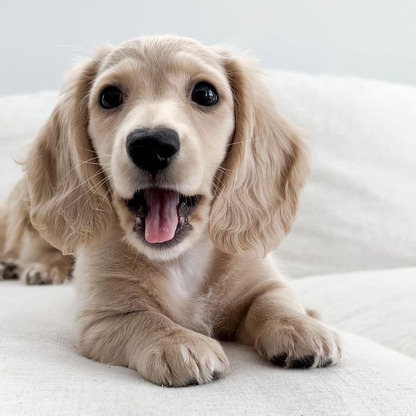dachshund: (35, 43, 346, 382)
